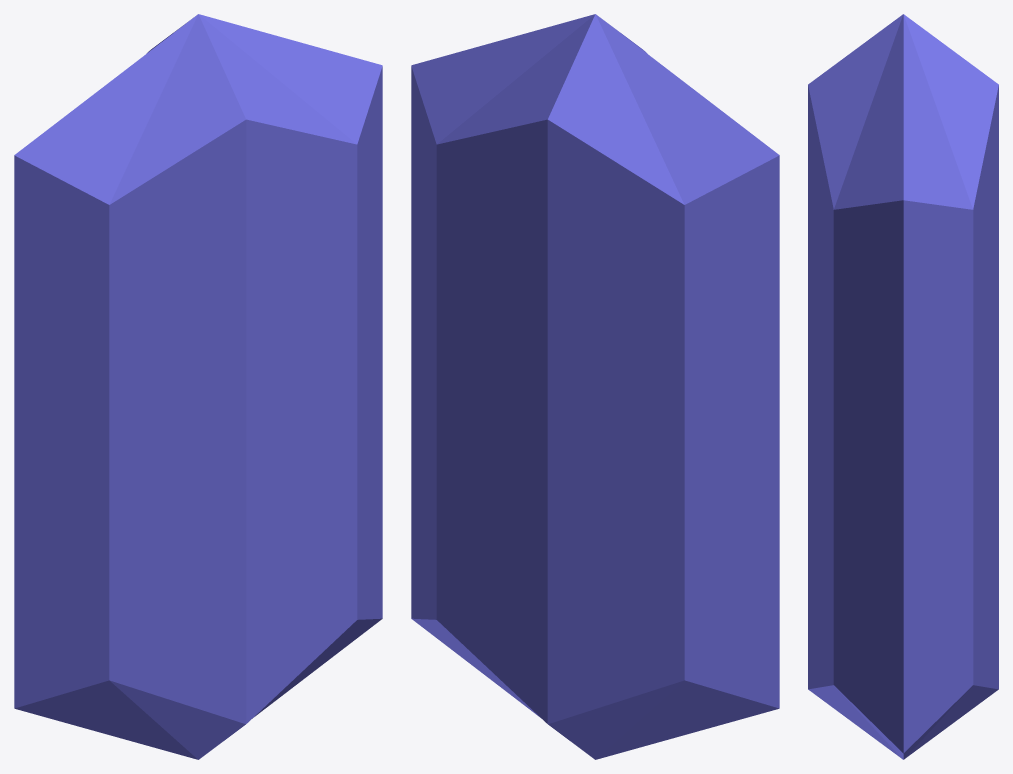
Rendered from Gem_Fin.fbx.
The picture shows the model from 3 angles, left to right: view 1: azimuth 30°, elevation 25°; view 2: azimuth 150°, elevation 25°; view 3: azimuth 270°, elevation 25°; orthographic projection.
Parts seen in each view (by area): view 1: pCube4; view 2: pCube4; view 3: pCube4.
Part boxes in pixels (x1,y1,x2,y2): pCube4: (14, 14, 382, 759); pCube4: (411, 14, 779, 759); pCube4: (808, 14, 998, 759).
Size of the model in its own units: 54.68 by 106 by 24.53.
